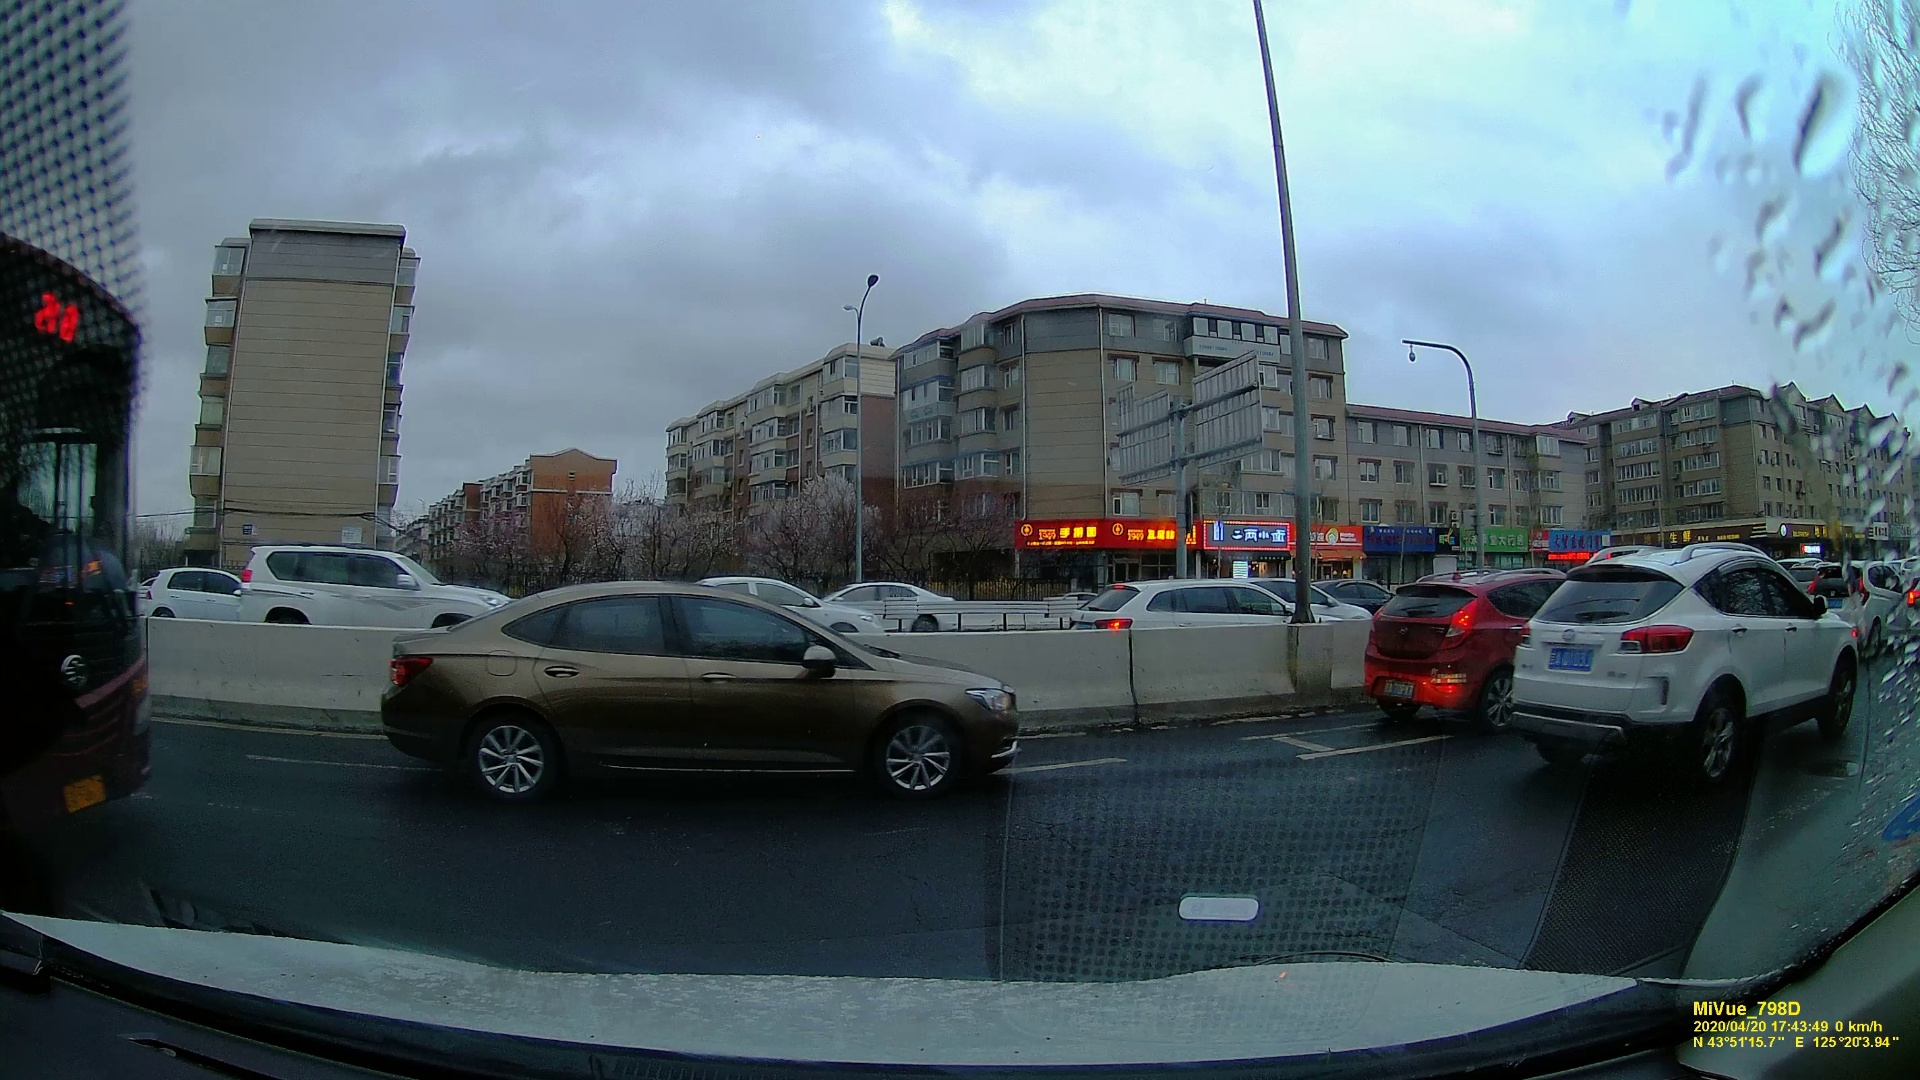bus: (3, 224, 144, 914)
vehicle: (378, 585, 1014, 794), (1520, 549, 1863, 778), (1364, 570, 1565, 732), (247, 542, 491, 624), (1072, 582, 1304, 630), (136, 562, 237, 621)
